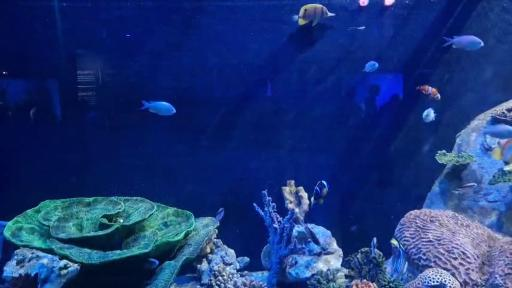Fish: (293, 4, 335, 26), (391, 238, 407, 279), (492, 139, 511, 171), (443, 36, 483, 50), (141, 101, 176, 115), (311, 181, 328, 206), (483, 124, 511, 139), (417, 86, 440, 100), (423, 108, 435, 122), (363, 61, 378, 72), (371, 238, 377, 256), (216, 208, 224, 221)
